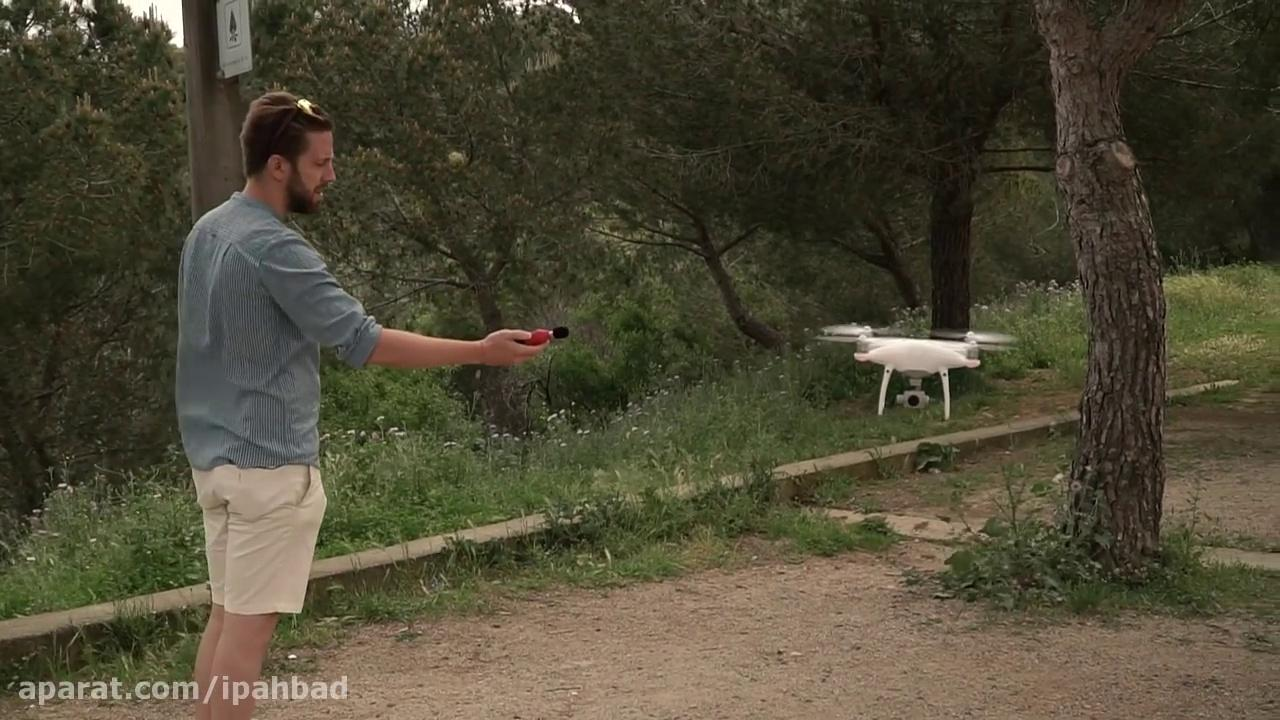drone: (819, 319, 1023, 418)
